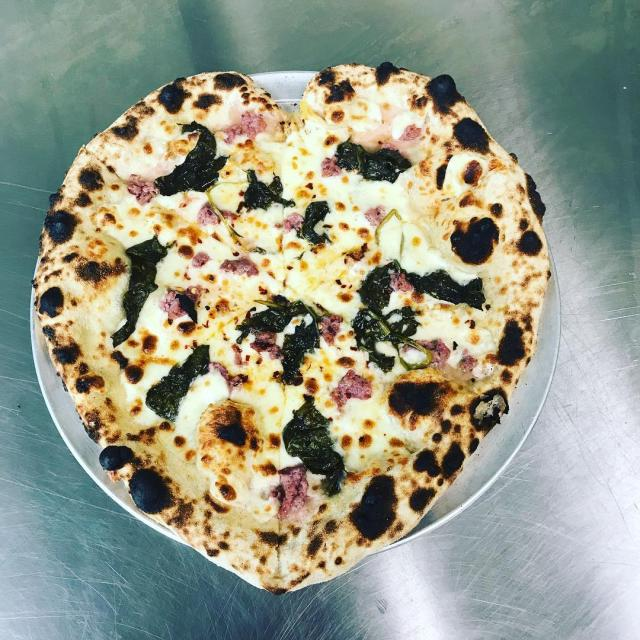pizza: (26, 59, 554, 599)
